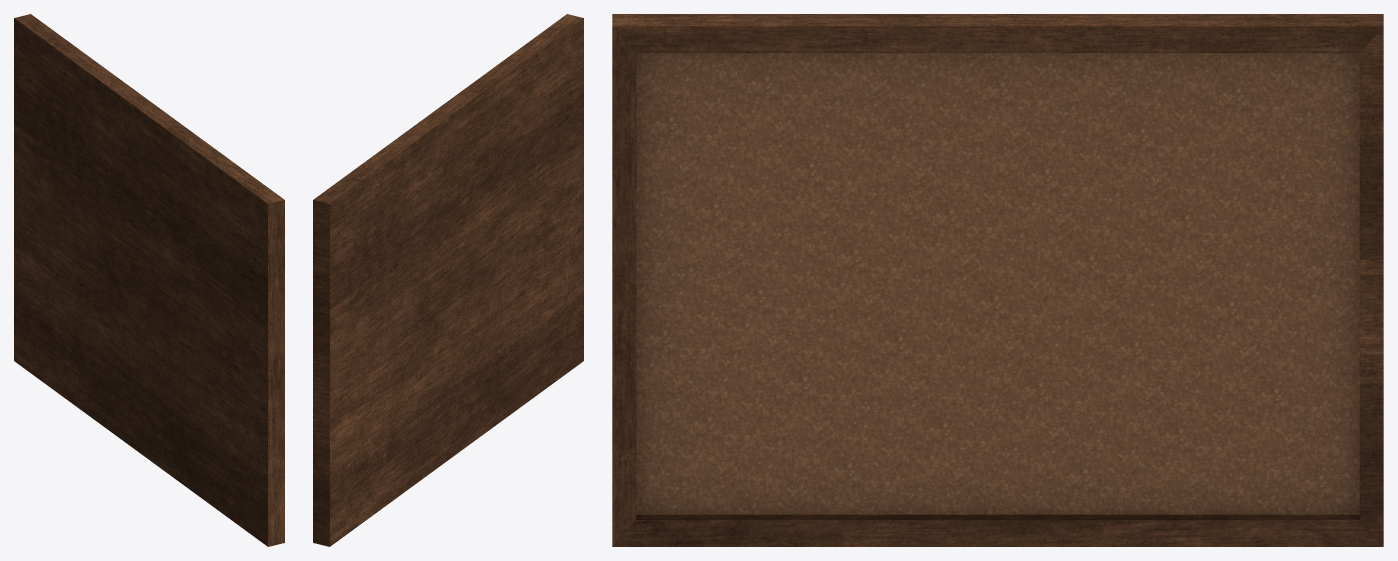
The model's file is Pin Board.fbx.
The picture shows the model from 3 angles, left to right: view 1: azimuth 30°, elevation 25°; view 2: azimuth 150°, elevation 25°; view 3: azimuth 270°, elevation 25°; orthographic projection. The views are drawn at different scales.
Visible parts, largest first — view 1: PinBoard_Lo; view 2: PinBoard_Lo; view 3: PinBoard_Lo.
Boxes of the visible parts, <box> form: PinBoard_Lo: <box>14,14,284,546</box>; PinBoard_Lo: <box>313,14,583,546</box>; PinBoard_Lo: <box>612,14,1383,546</box>.
Size of the model in its own units: 4.9 by 95.84 by 129.
